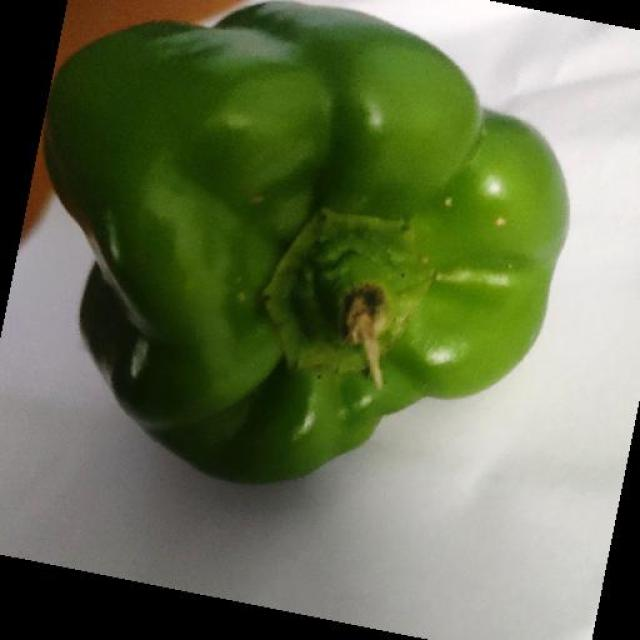Fresh_Capsicum: (51, 12, 562, 450)
